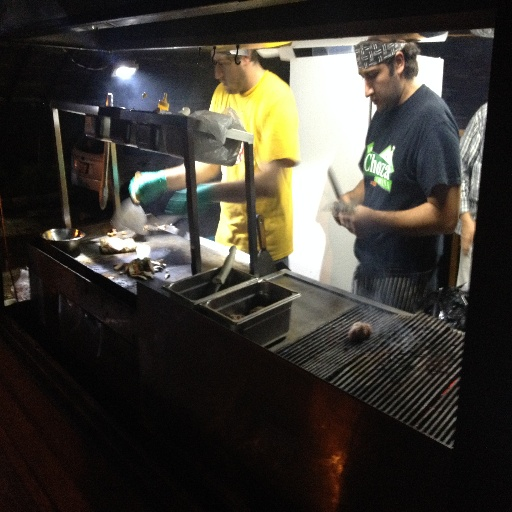hand: (127, 169, 164, 206), (166, 185, 205, 217), (339, 203, 373, 238), (458, 217, 476, 257), (334, 191, 351, 208)
